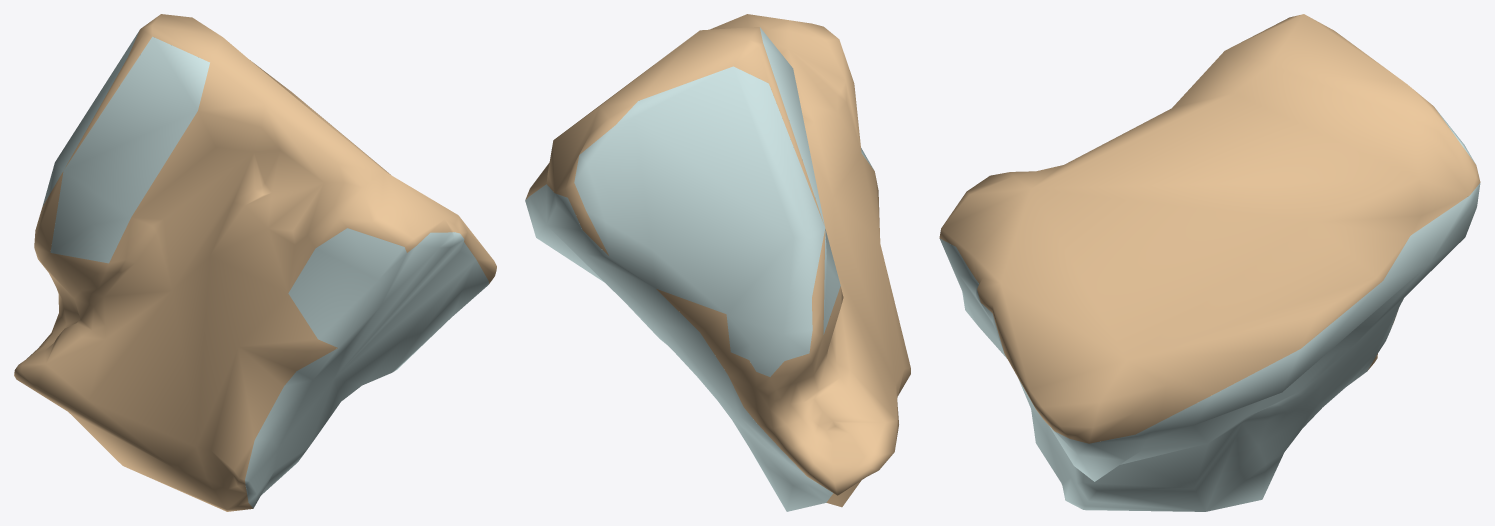
Rendered from Cuneiform_lateral_bone_left.glb.
3 views of the same model, side by side, from view 1: azimuth 30°, elevation 25°; view 2: azimuth 150°, elevation 25°; view 3: azimuth 270°, elevation 25° (orthographic). The views are drawn at different scales.
Visible parts, largest first — view 1: Lateral_cuneiform_bone.l_Generated_Mesh_From_X3D.795; view 2: Lateral_cuneiform_bone.l_Generated_Mesh_From_X3D.795; view 3: Lateral_cuneiform_bone.l_Generated_Mesh_From_X3D.795.
Boxes of the visible parts, x1,y1,x2,y2 form: Lateral_cuneiform_bone.l_Generated_Mesh_From_X3D.795: [14, 14, 496, 511]; Lateral_cuneiform_bone.l_Generated_Mesh_From_X3D.795: [525, 14, 910, 511]; Lateral_cuneiform_bone.l_Generated_Mesh_From_X3D.795: [939, 14, 1480, 511].
Size of the model in its own units: 0.0242 by 0.0269 by 0.0265.
